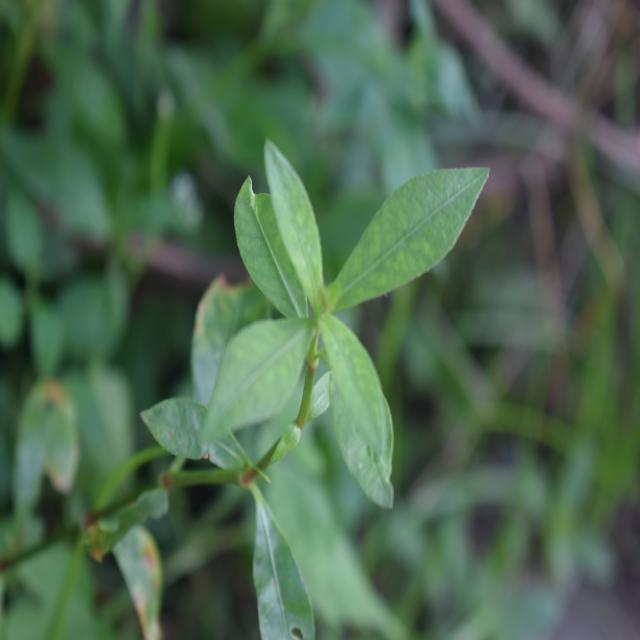Alligatorweed: (199, 123, 477, 513)
